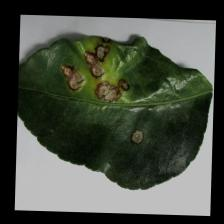canker: (59, 34, 152, 146)
